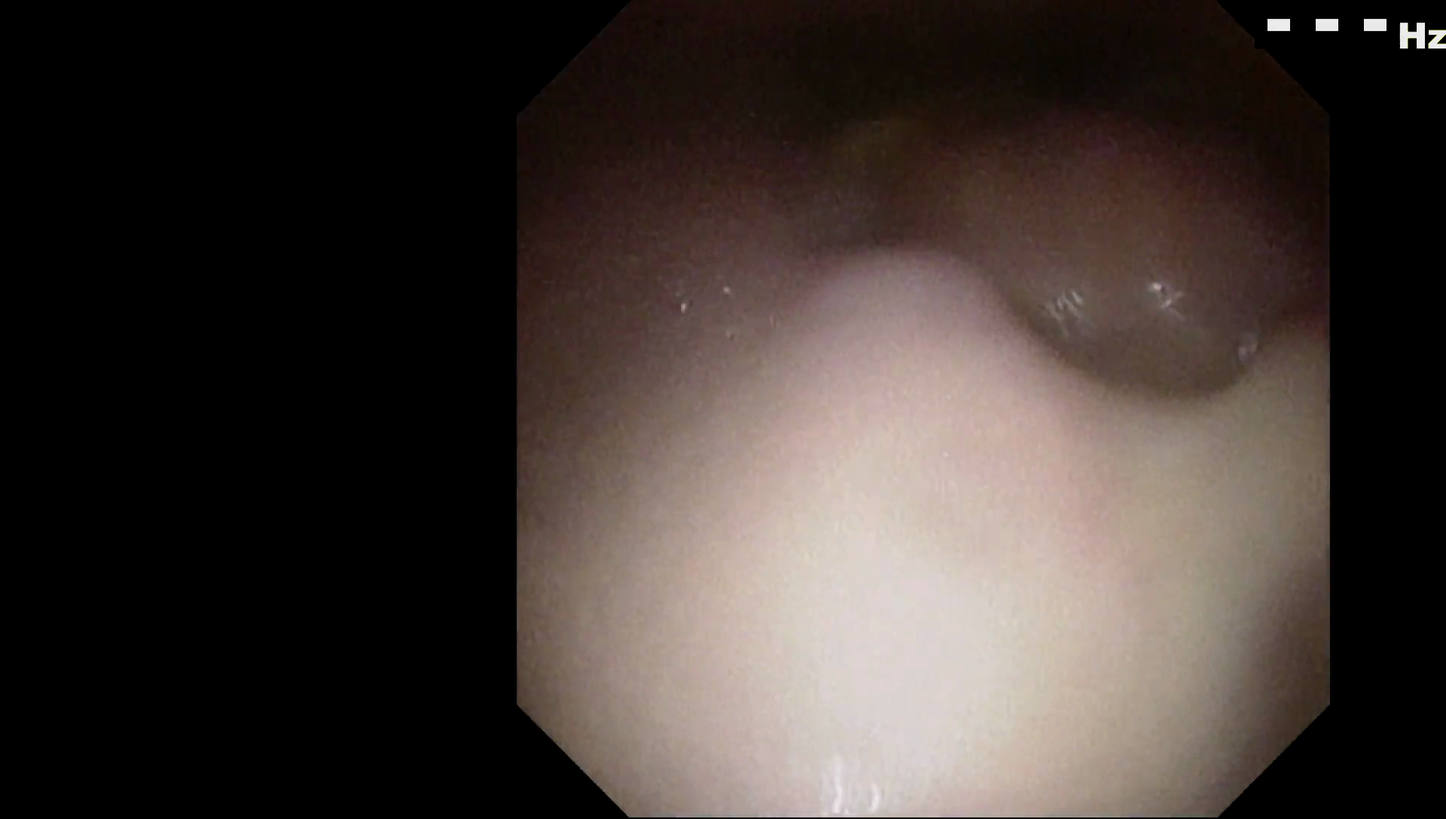close_wall: (578, 209, 1287, 733)
next: (751, 17, 1197, 154)
